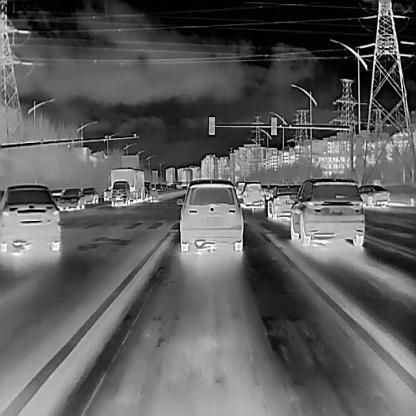car: (289, 178, 364, 244), (176, 179, 243, 250), (1, 182, 59, 253), (110, 168, 144, 206), (267, 185, 299, 219), (357, 183, 390, 206), (242, 180, 264, 208), (58, 188, 85, 208), (83, 186, 98, 203), (144, 180, 152, 201), (103, 186, 110, 202), (150, 183, 157, 199), (156, 183, 161, 193), (162, 183, 167, 191)
